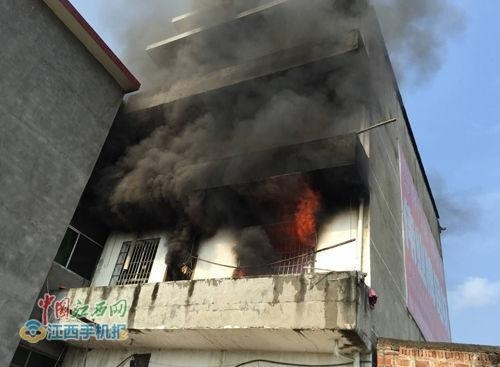fire: (293, 186, 319, 245)
